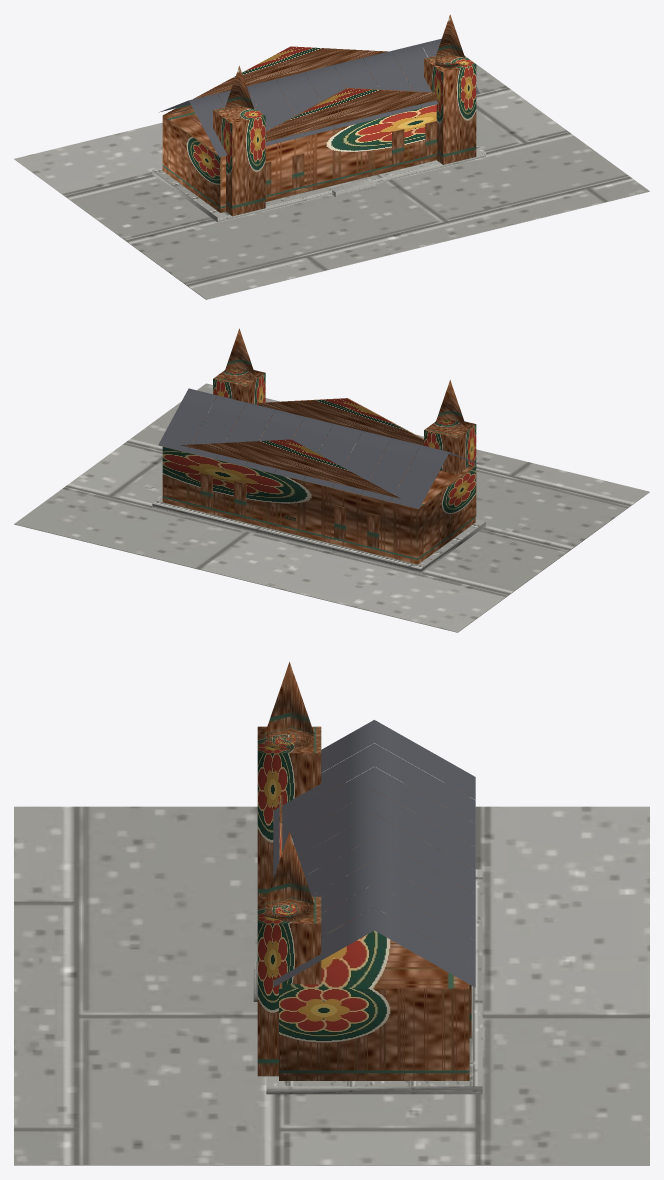
3 views of the same model, one above another, from view 1: azimuth 30°, elevation 25°; view 2: azimuth 150°, elevation 25°; view 3: azimuth 270°, elevation 25° (orthographic). The views are drawn at different scales.
Parts seen in each view (by area): view 1: 11140_02_04519_010_01_L2__plinth_yard, 11140_02_04519_010_02_L2__nave, 11140_02_04519_010_03_L2__roof, 11140_02_04519_010_05_L2__windows; view 2: 11140_02_04519_010_01_L2__plinth_yard, 11140_02_04519_010_02_L2__nave, 11140_02_04519_010_03_L2__roof, 11140_02_04519_010_05_L2__windows; view 3: 11140_02_04519_010_01_L2__plinth_yard, 11140_02_04519_010_02_L2__nave, 11140_02_04519_010_03_L2__roof.
Part boxes in pixels (bbox=[...]): 11140_02_04519_010_01_L2__plinth_yard: bbox=[14, 55, 649, 299]; 11140_02_04519_010_02_L2__nave: bbox=[162, 14, 476, 216]; 11140_02_04519_010_03_L2__roof: bbox=[159, 38, 479, 157]; 11140_02_04519_010_05_L2__windows: bbox=[265, 121, 437, 195]; 11140_02_04519_010_01_L2__plinth_yard: bbox=[14, 383, 649, 632]; 11140_02_04519_010_02_L2__nave: bbox=[162, 328, 476, 564]; 11140_02_04519_010_03_L2__roof: bbox=[158, 388, 478, 508]; 11140_02_04519_010_05_L2__windows: bbox=[200, 472, 379, 548]; 11140_02_04519_010_01_L2__plinth_yard: bbox=[14, 806, 649, 1165]; 11140_02_04519_010_02_L2__nave: bbox=[257, 662, 469, 1080]; 11140_02_04519_010_03_L2__roof: bbox=[273, 720, 475, 987].
Bounding box in the file's own units: 80 × 25 × 60.
Materials: 5 (5 with a texture image).
